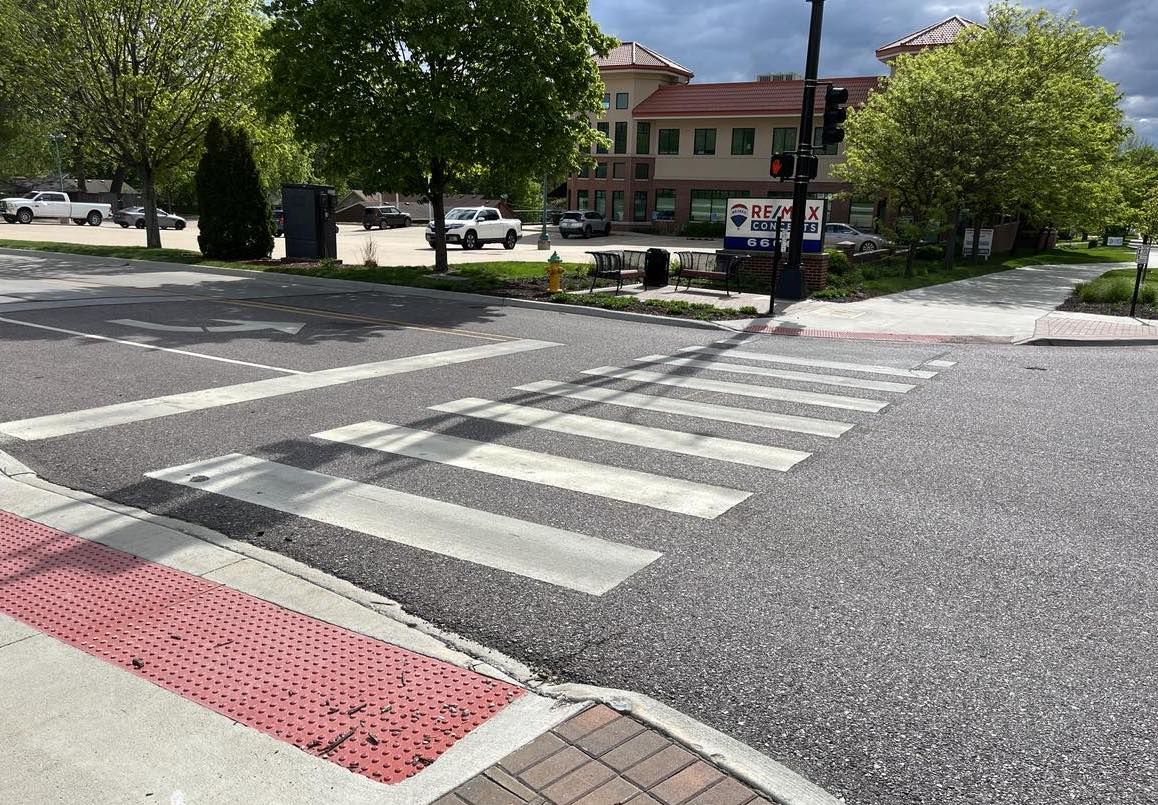Car: (420, 201, 530, 262), (3, 183, 128, 233)
Crosswalk: (164, 325, 983, 602)
Tree: (267, 2, 614, 300), (835, 14, 1132, 299)
